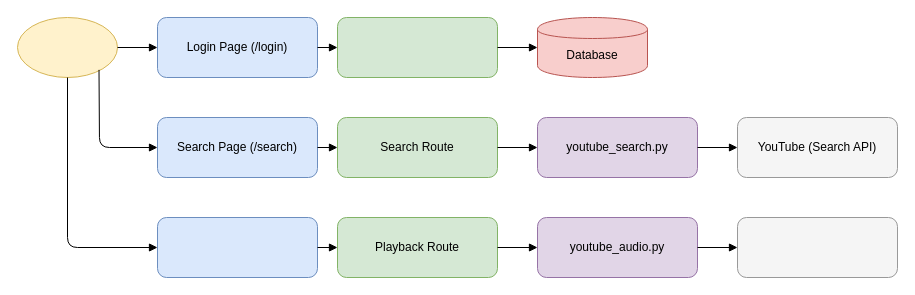
This 915x295 diagram has some shape labels left out. The shapes that lost their labels are listed below. From the top down, each one's centre as x and y in pixels, then its label:
At [67,47]: "User".
At [417,47]: "Auth Route (Flask)".
At [237,247]: "Play Page (/play)".
At [817,247]: "YouTube (Audio Stream)".
